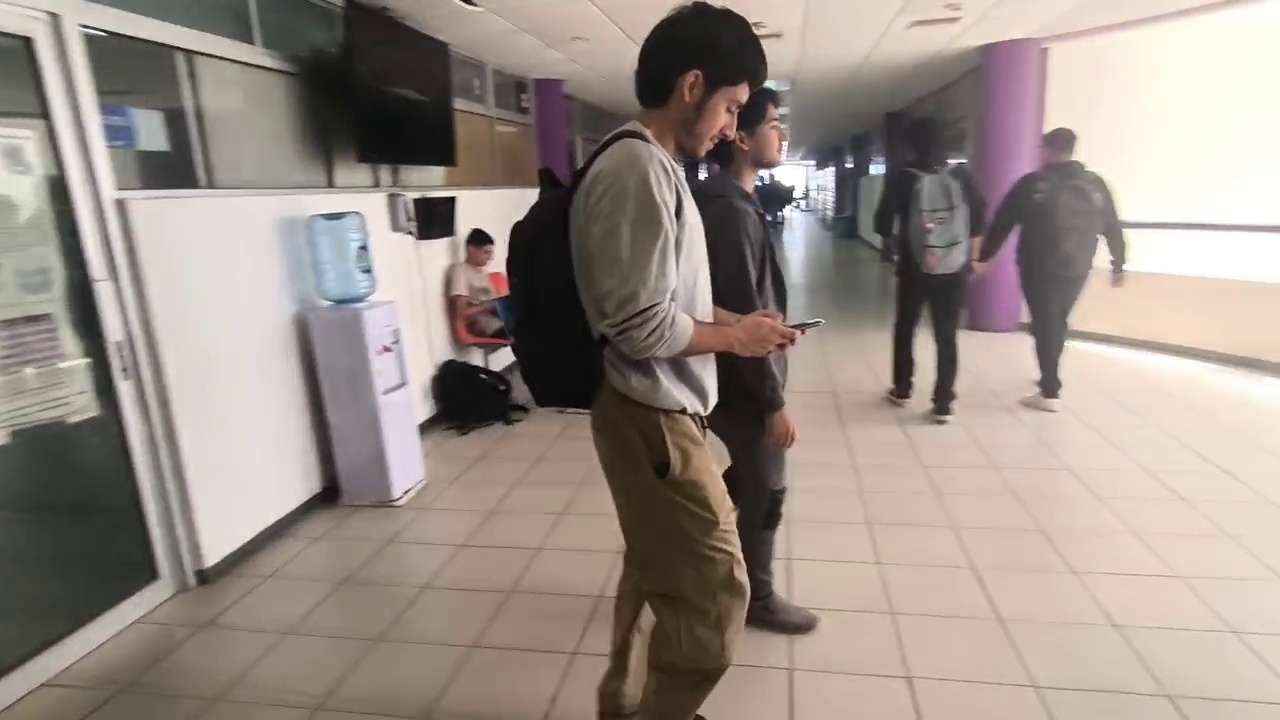mixto2: (779, 307, 835, 338)
